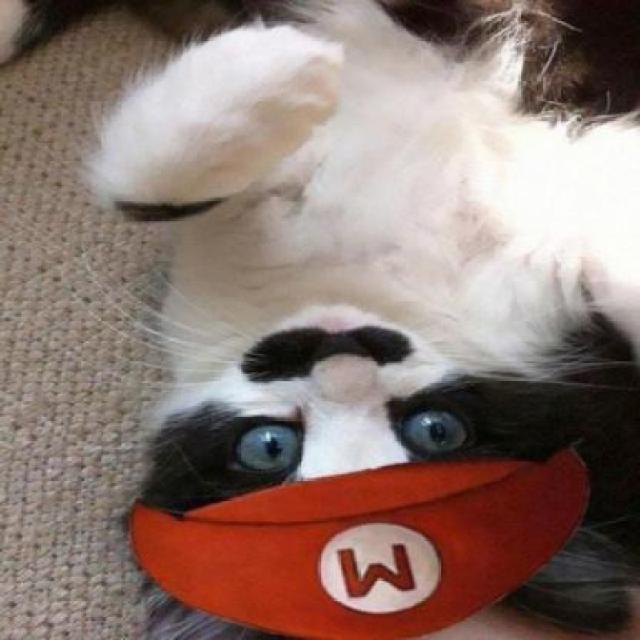cat: (82, 0, 569, 518)
